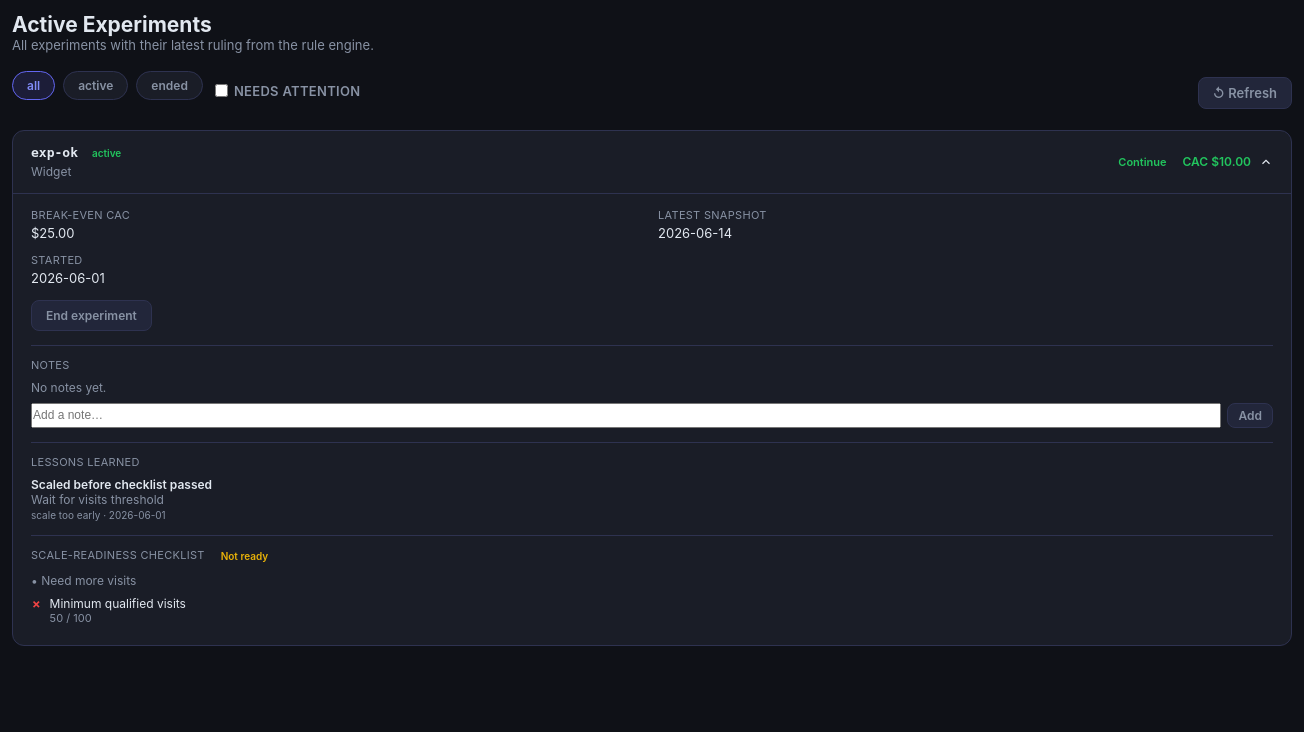
ActiveExperiments lifecycle wiring › adds a note from the expanded experiment card
Type "Operator note" into the field with placeholder "Add a note…" at (626, 415), box [31,402,1222,428]
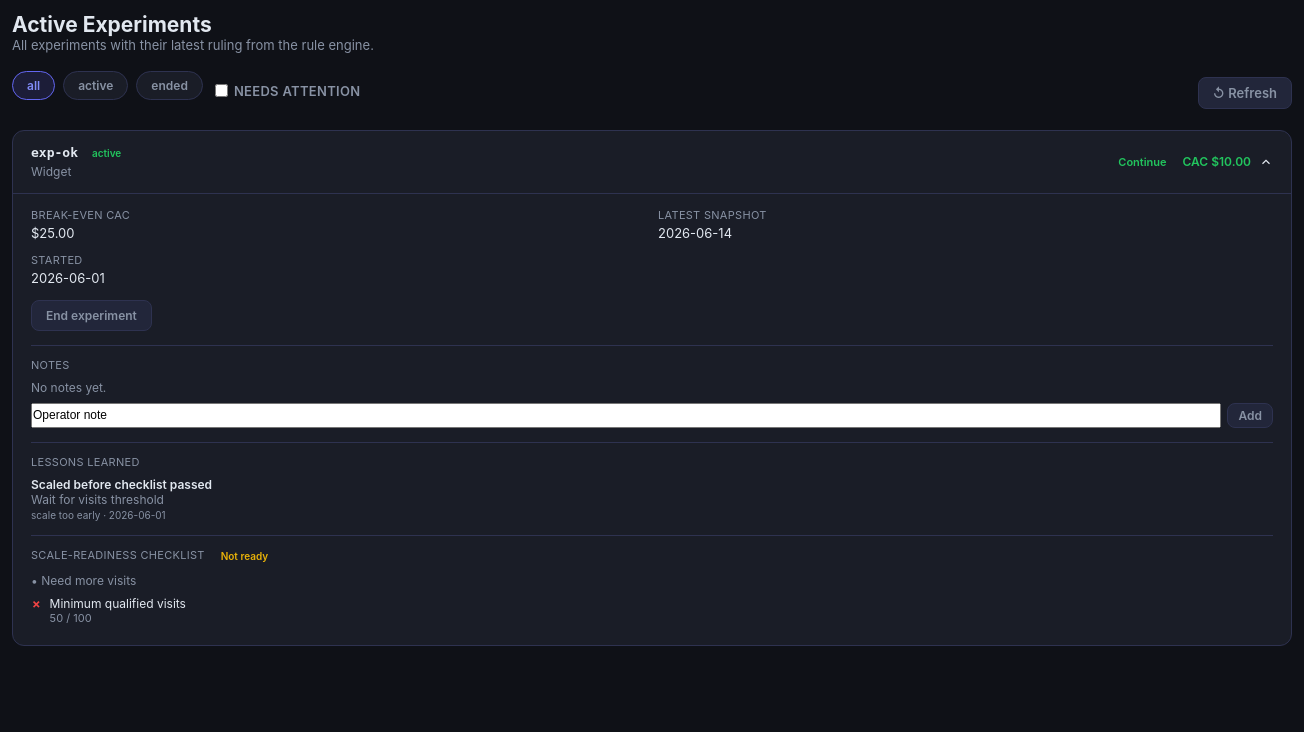
Click the button "Add" at (1250, 415), box [1228,402,1273,428]
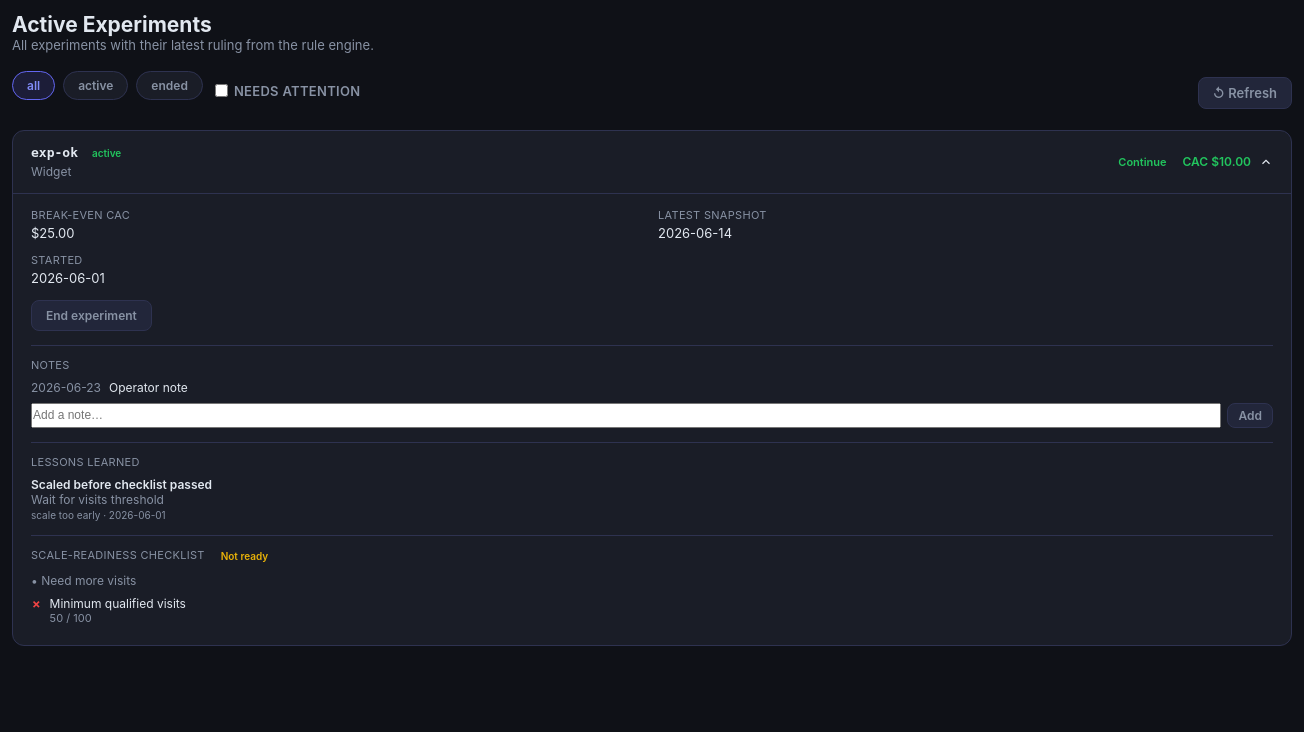
Now the text "Operator note" is shown, box [109,380,188,394]
